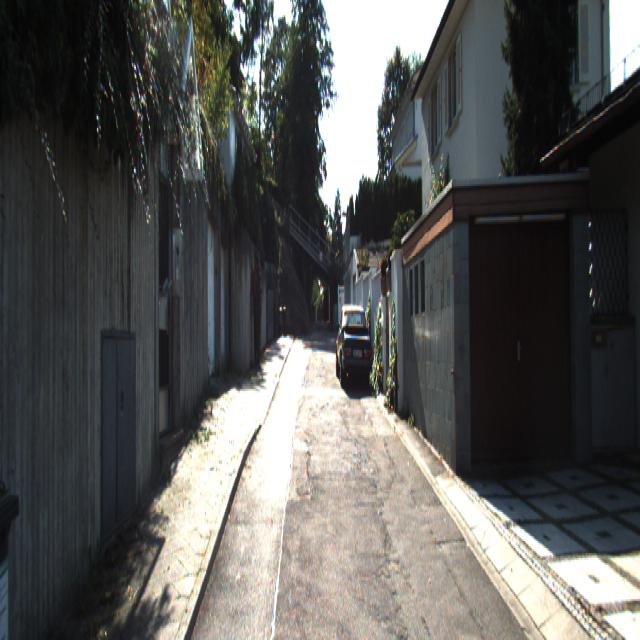Car: (335, 302, 373, 393)
